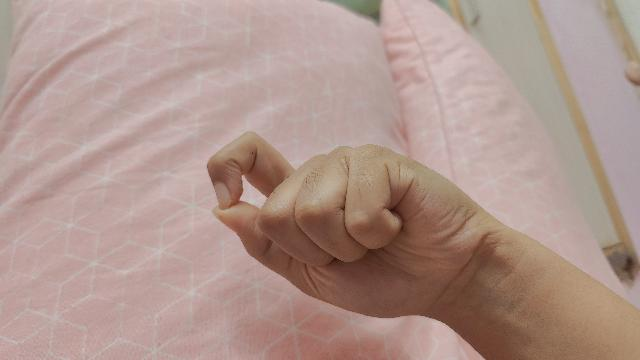kapitth: (206, 133, 640, 360)
